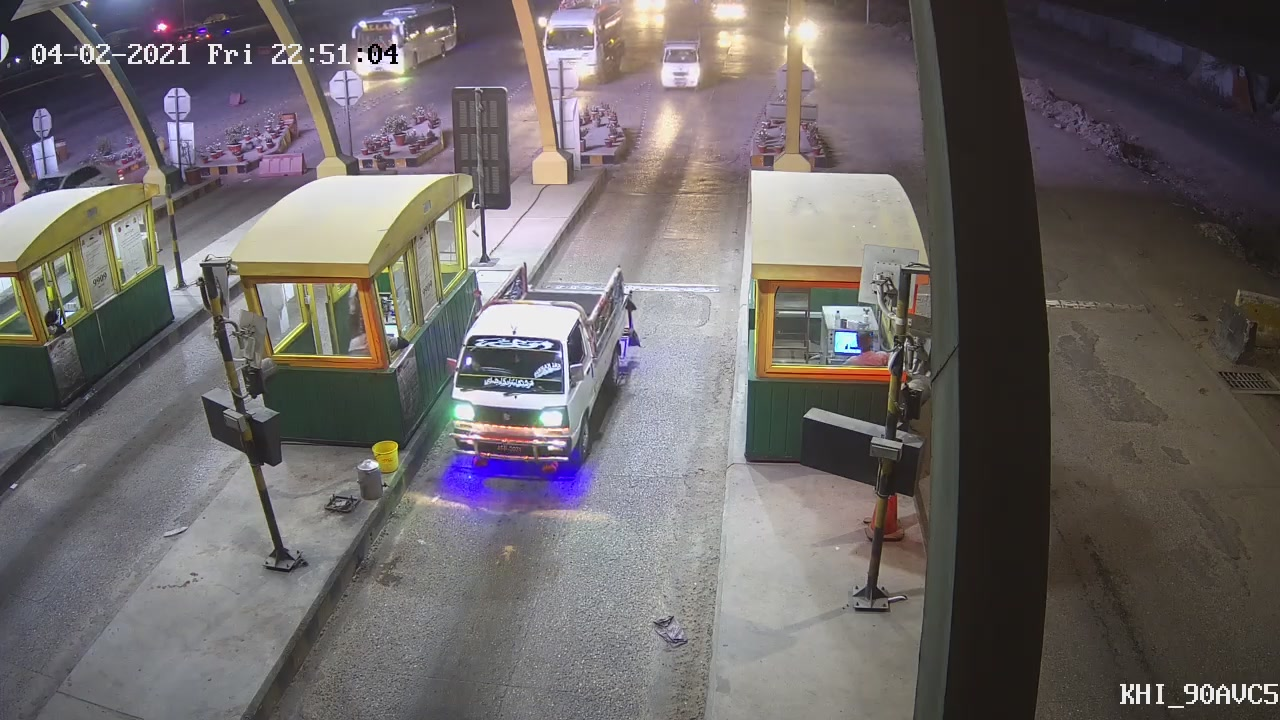F1: (448, 260, 633, 484)
